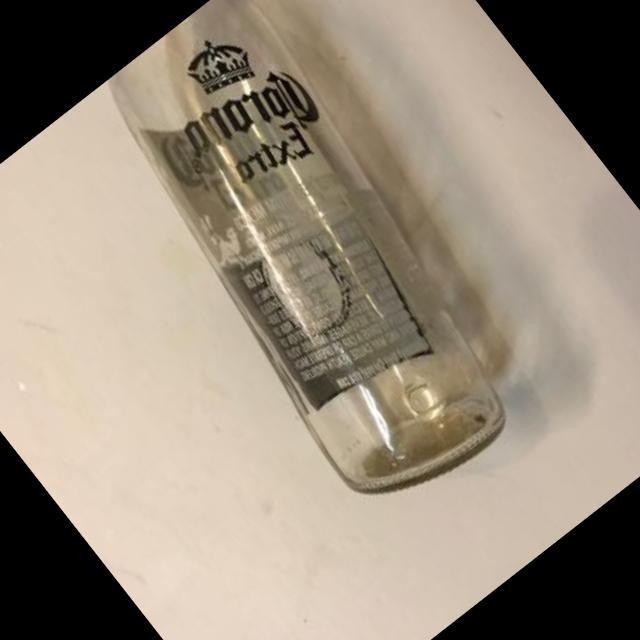BotolKaca: (57, 0, 568, 534)
